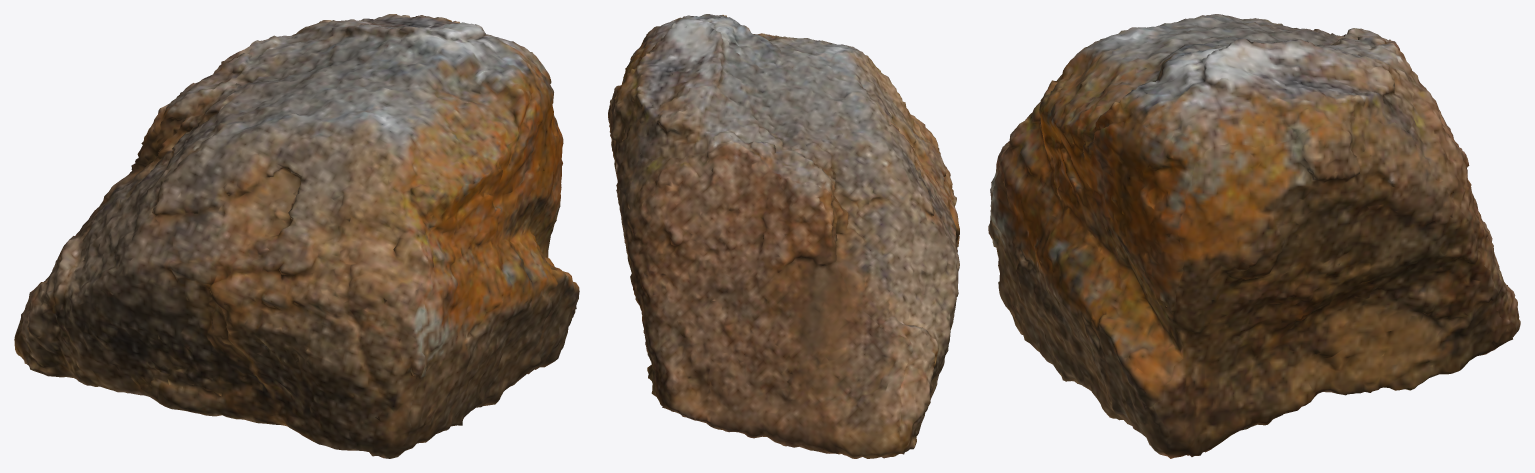
File: namaqualand_boulder_04.83e61a4fc0.glb
3 views of the same model, side by side, from view 1: azimuth 30°, elevation 25°; view 2: azimuth 150°, elevation 25°; view 3: azimuth 270°, elevation 25° (orthographic). The views are drawn at different scales.
Parts seen in each view (by area): view 1: boulder_04; view 2: boulder_04; view 3: boulder_04.
Part boxes in pixels (x1,y1,x2,y2): boulder_04: [14, 14, 579, 458]; boulder_04: [608, 14, 959, 458]; boulder_04: [988, 14, 1520, 458].
Bounding box in the file's own units: 2.52 × 1.9 × 2.5.
Materials: 1 (1 with a texture image).
